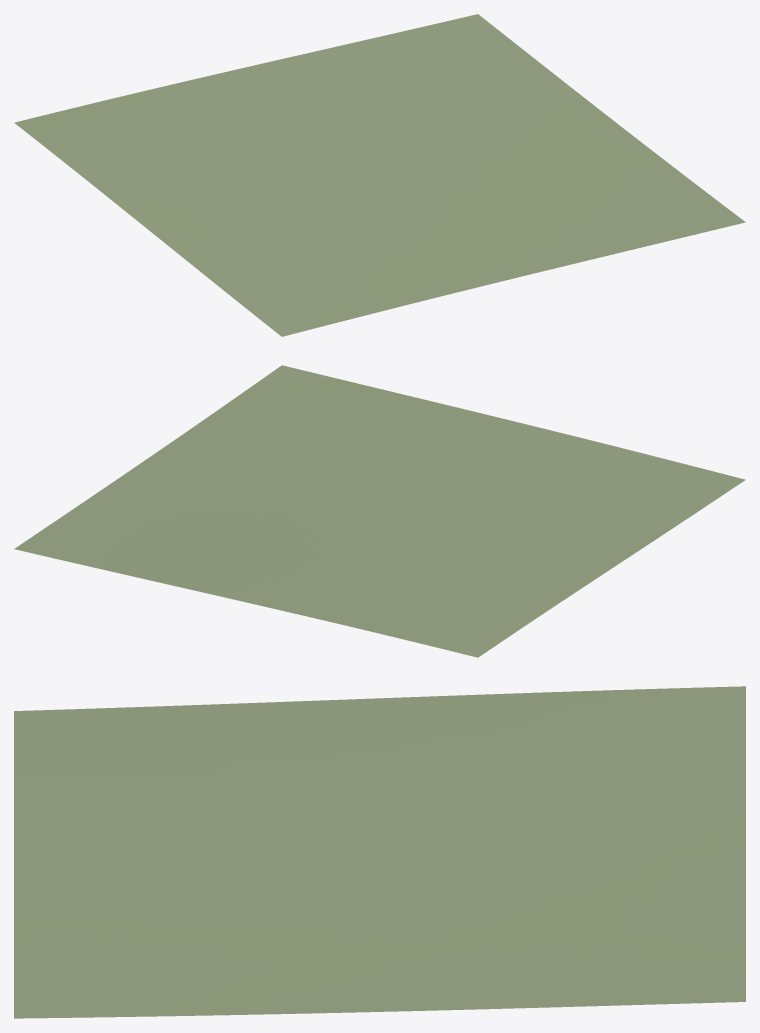
File: expanse-5-2.glb
The picture shows the model from 3 angles, top to bottom: view 1: azimuth 30°, elevation 25°; view 2: azimuth 150°, elevation 25°; view 3: azimuth 270°, elevation 25°; orthographic projection. The views are drawn at different scales.
Parts seen in each view (by area): view 1: expanse-5-2; view 2: expanse-5-2; view 3: expanse-5-2.
Part boxes in pixels (x1,y1,x2,y2): expanse-5-2: (14, 14, 745, 336); expanse-5-2: (14, 365, 745, 657); expanse-5-2: (14, 686, 745, 1018).
Size of the model in its own units: 256 by 9.62 by 256.
